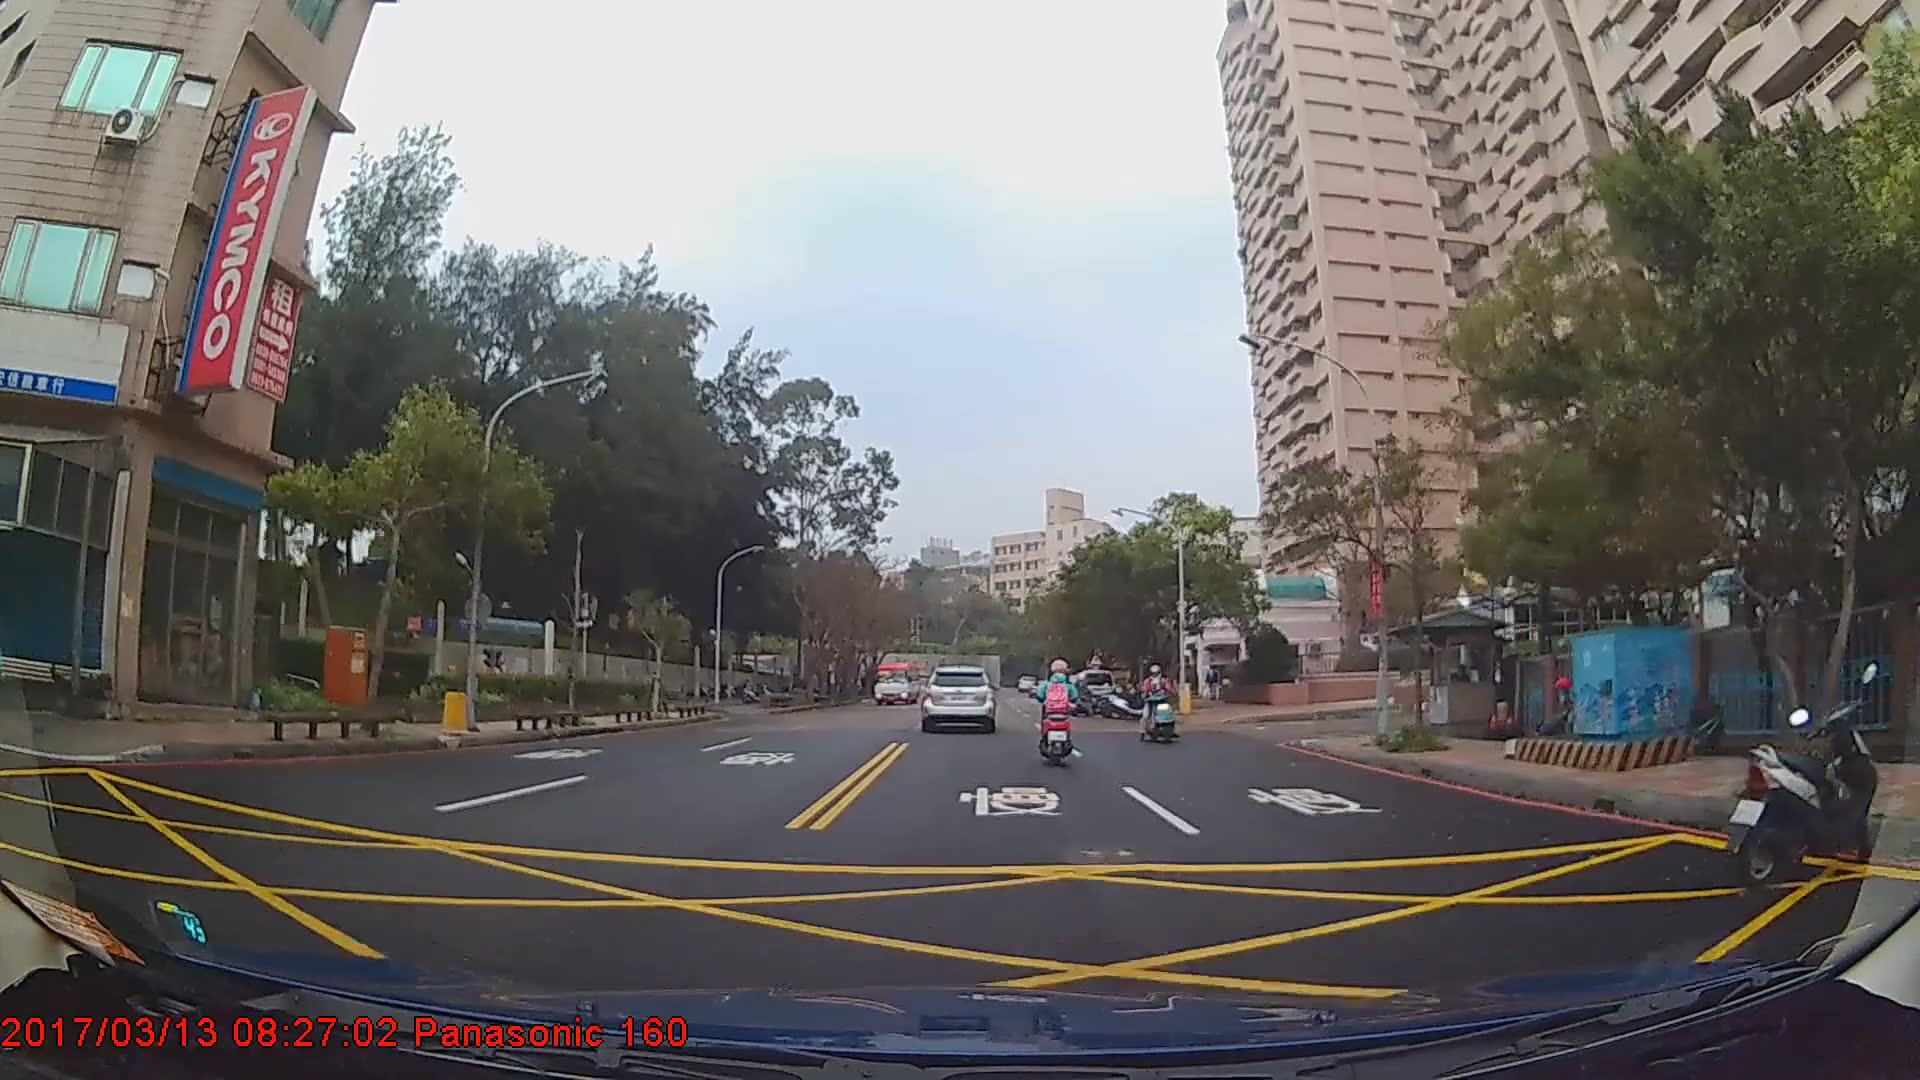rider: (1034, 656, 1080, 773), (1138, 666, 1178, 745), (1070, 669, 1100, 717)
vehicle: (919, 661, 994, 731), (872, 660, 924, 705), (1067, 667, 1115, 713)
